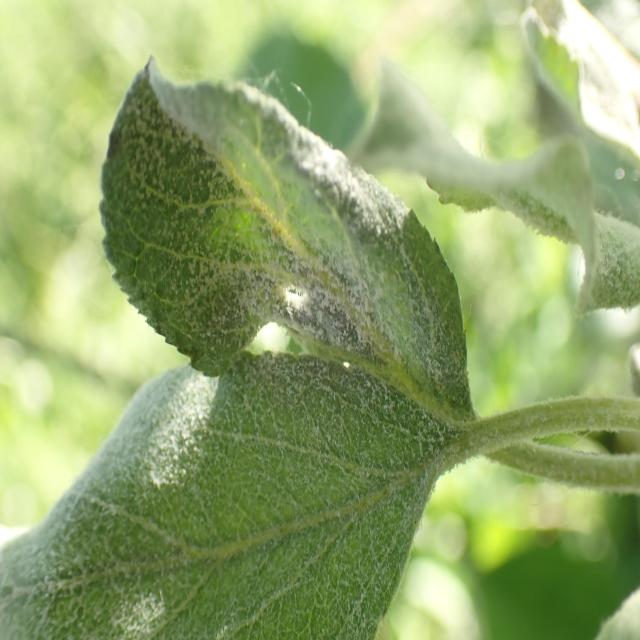Powdery_mildew: (94, 41, 497, 431), (0, 343, 446, 635), (374, 42, 640, 312)
